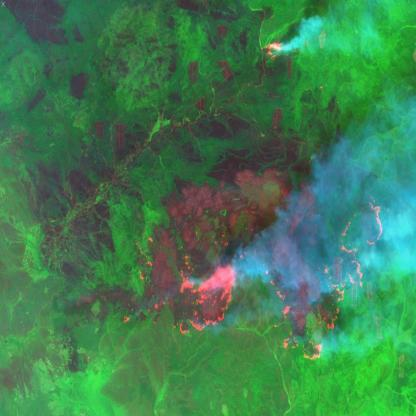fire: (110, 189, 390, 364), (261, 27, 304, 67)
